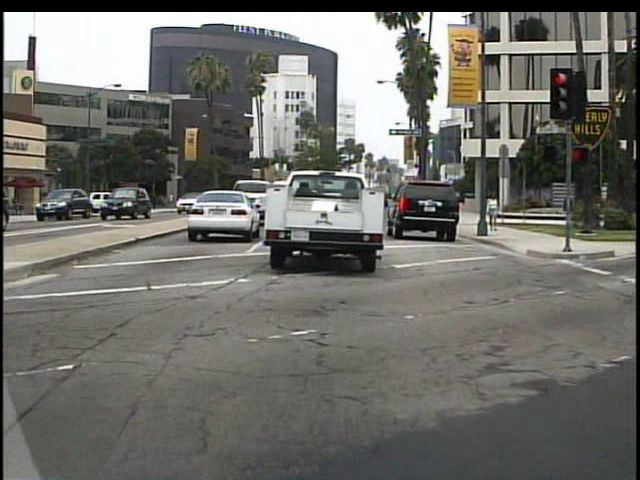person: (484, 188, 502, 237)
